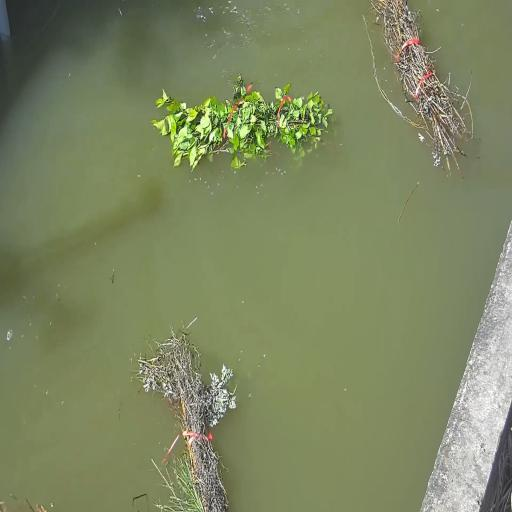twig: (129, 318, 233, 512), (365, 0, 472, 174), (155, 70, 329, 166)
